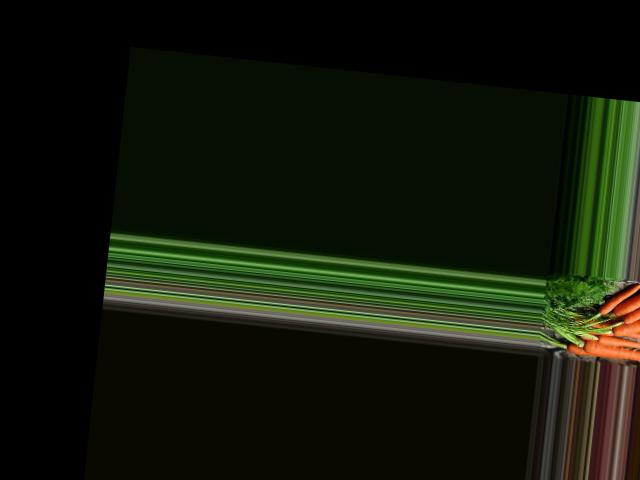carrot: (597, 280, 639, 318)
